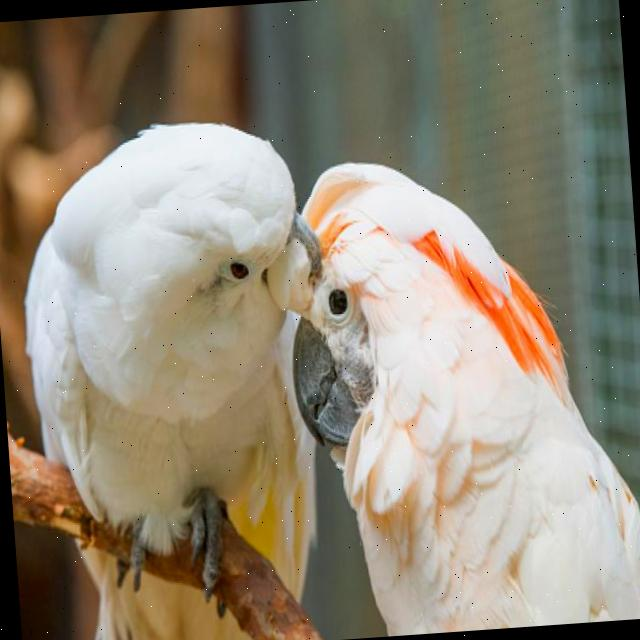Kakatua Putih: (249, 125, 640, 640), (0, 100, 349, 640)
